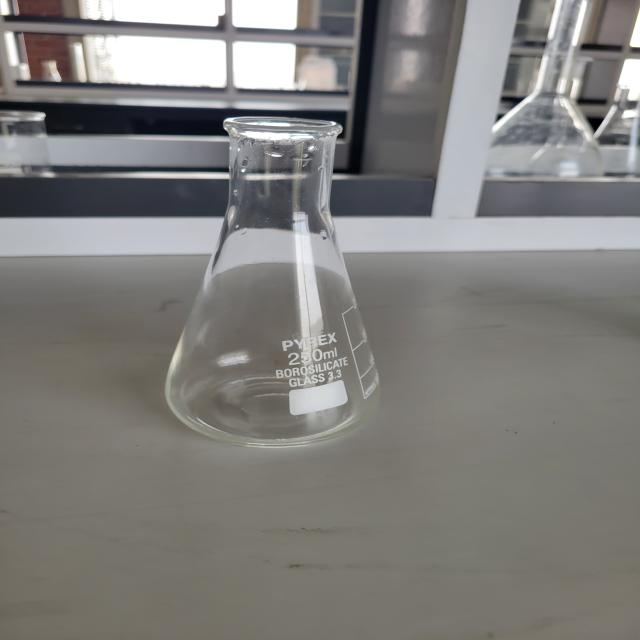Conical_Flask: (123, 91, 419, 461)
